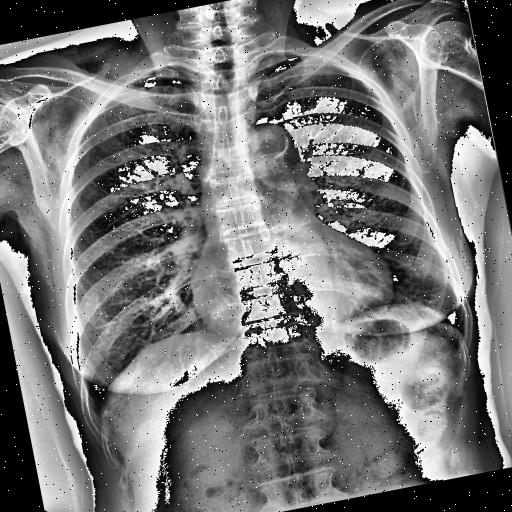0- Aortic enlargement: (238, 118, 303, 178), (233, 120, 301, 172), (250, 118, 300, 162)
10- Pleural effusion: (81, 390, 110, 422)
11- Pleural thickening: (81, 390, 110, 422), (318, 53, 338, 68)
3- Cardiomegaly: (182, 234, 400, 342)
8- Nodule-Mass: (146, 78, 156, 85)
9- Other lesion: (146, 78, 156, 85)
